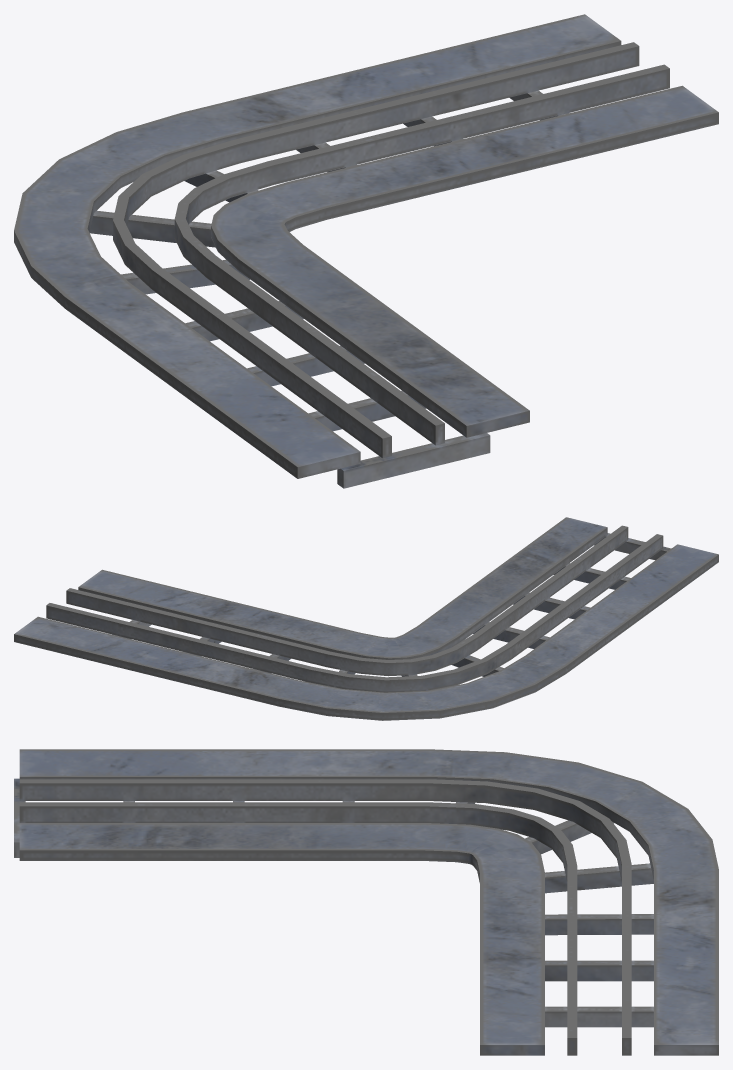
Rendered from jctRoofEquipRail_L.fbx.
The picture shows the model from 3 angles, top to bottom: view 1: azimuth 30°, elevation 25°; view 2: azimuth 150°, elevation 25°; view 3: azimuth 270°, elevation 25°; orthographic projection. The views are drawn at different scales.
Visible parts, largest first — view 1: jctRoofEquipRail_L; view 2: jctRoofEquipRail_L; view 3: jctRoofEquipRail_L.
Part boxes in pixels (<box>): jctRoofEquipRail_L: <box>14,14,718,488</box>; jctRoofEquipRail_L: <box>14,517,718,720</box>; jctRoofEquipRail_L: <box>14,749,718,1055</box>.
Bounding box in the file's own units: 603 × 31.8 × 608.
